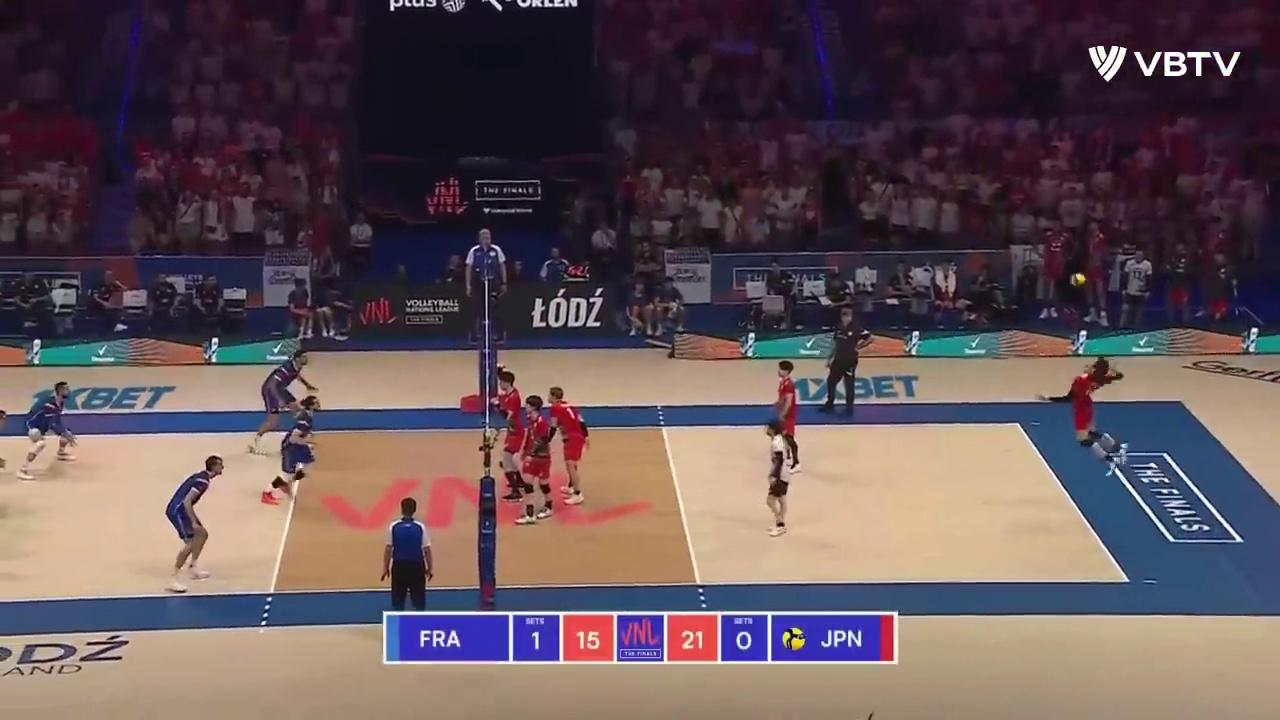ball: (1072, 274, 1086, 287)
